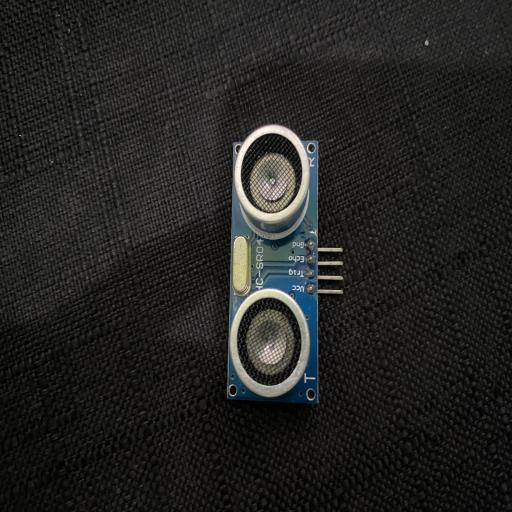Ultrasonic Sensor: (226, 124, 344, 406)
